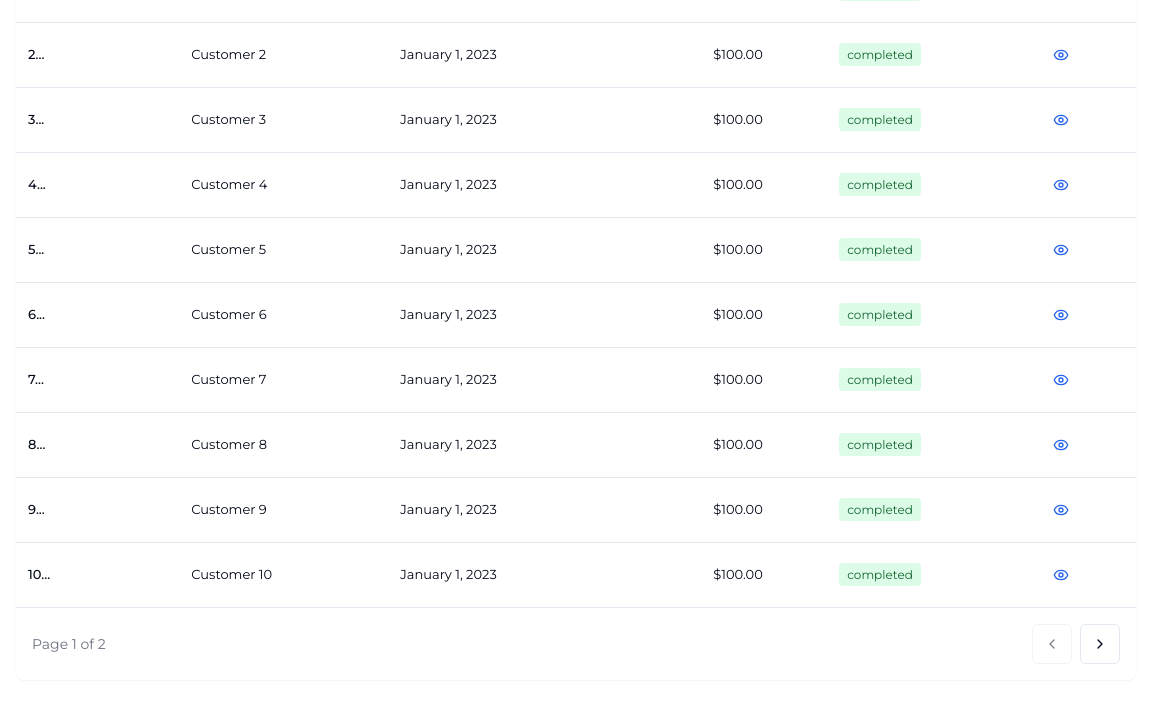
OrderManagement › should paginate orders
The image size is (1152, 720).
(page scrolled)
Expected: the row "10... Customer 10 January 1, 2023 $100.00 completed" is shown, top-left (16, 542), bottom-right (1136, 606)
Expected: the text "Customer 11" is not shown
Click the 2nd button at (1100, 644), box top-left (1080, 624), bottom-right (1120, 664)
(page scrolled)
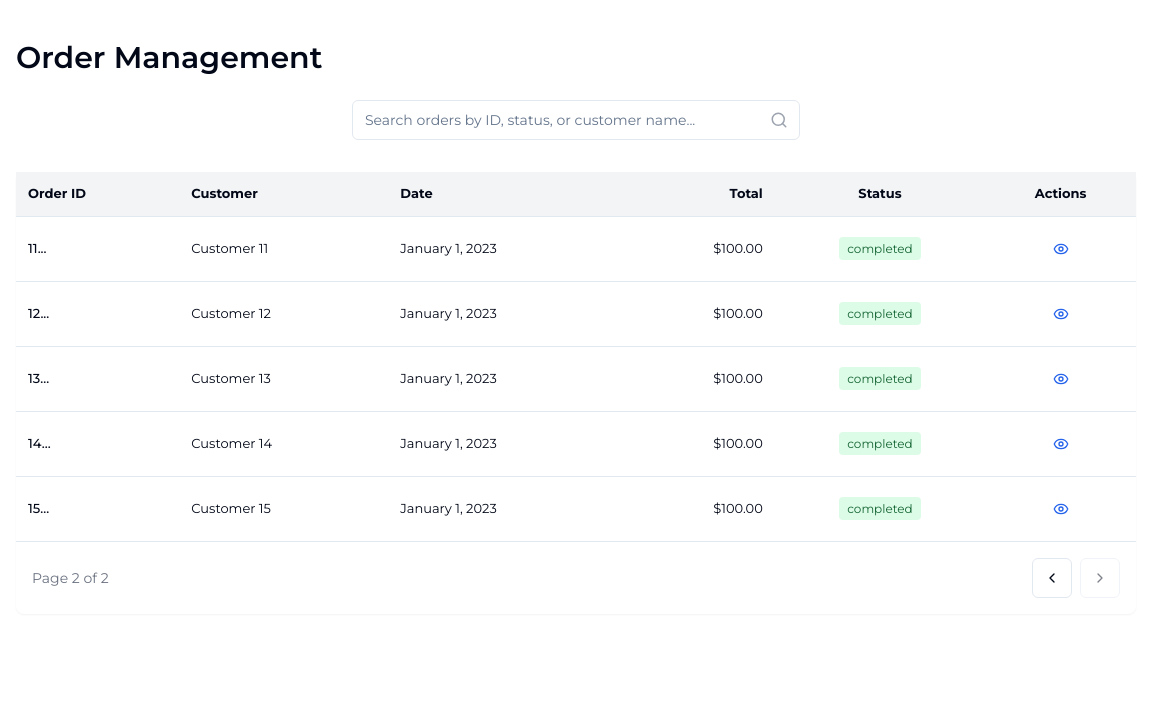
Expected: the text "Customer 11" is shown, top-left (179, 216), bottom-right (388, 281)
